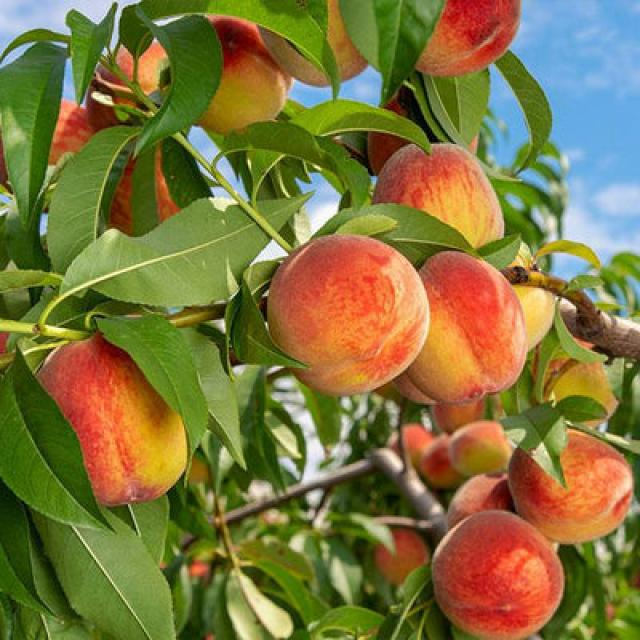peach: (9, 36, 578, 640)
